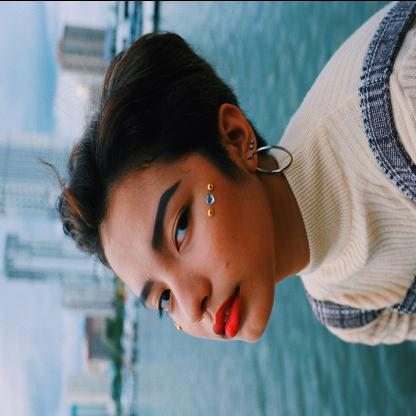Eye: (172, 196, 193, 254), (154, 285, 174, 315)
Mouth: (212, 280, 242, 337)
Nose: (166, 261, 211, 323)
